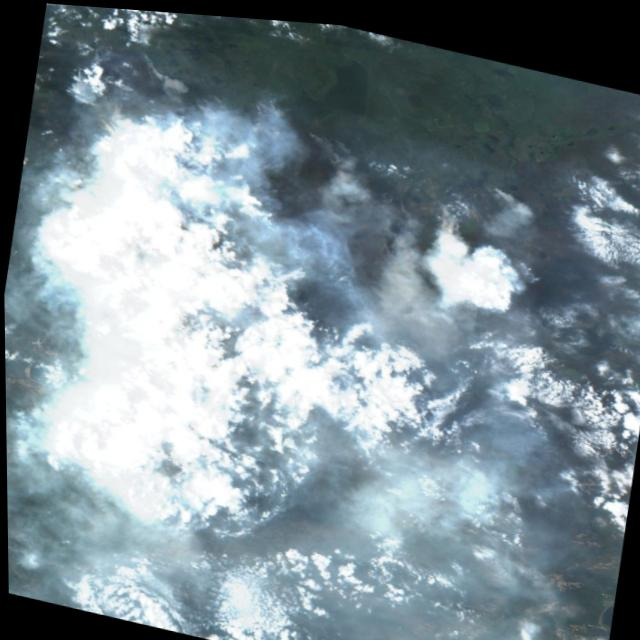fire: (0, 15, 549, 465)
